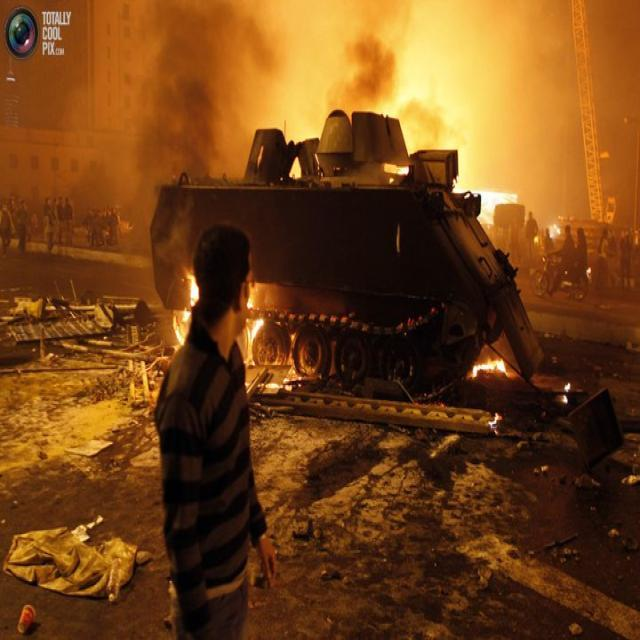Fire: (477, 174, 520, 222), (174, 272, 202, 338), (466, 354, 512, 381)
